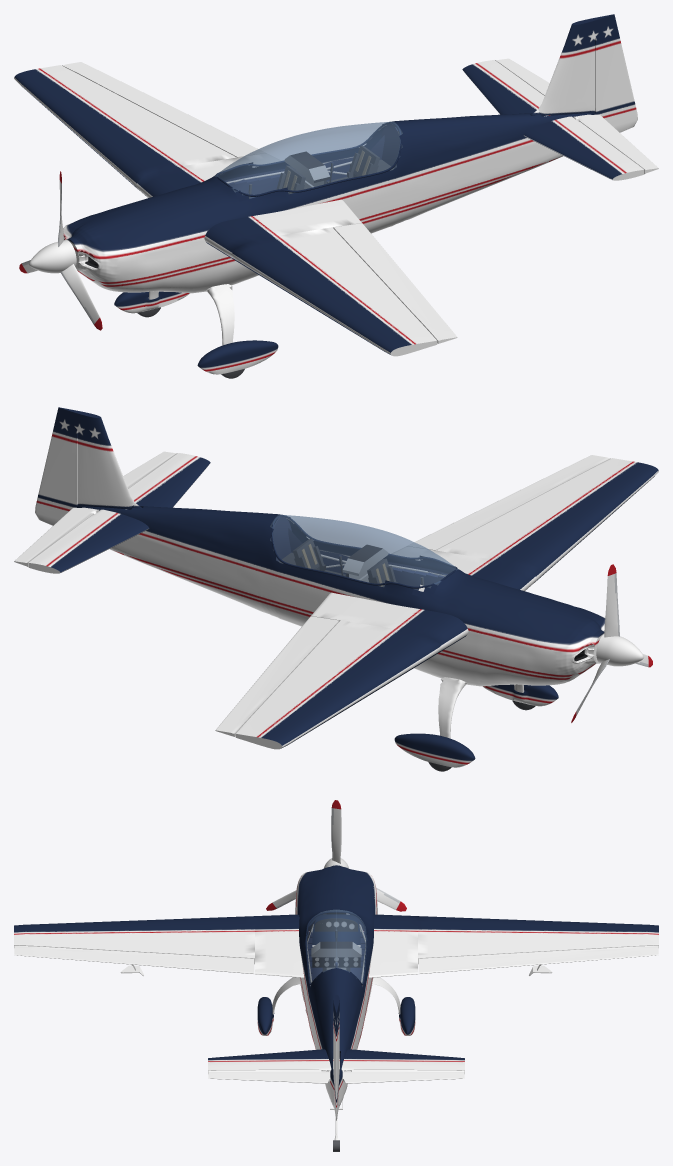
File: extra-300-like-own-unmarked.glb
The picture shows the model from 3 angles, top to bottom: view 1: azimuth 30°, elevation 25°; view 2: azimuth 150°, elevation 25°; view 3: azimuth 270°, elevation 25°; orthographic projection. The views are drawn at different scales.
Parts seen in each view (by area): view 1: Fuselage_Painted, Wing, Canopy_Glass, Stab, Cockpit, Rudder, Aileron_L, Fin, Aileron_R, Wheel_Pants, Elevator_L, Prop (+4 smaller); view 2: Fuselage_Painted, Wing, Canopy_Glass, Stab, Cockpit, Rudder, Aileron_R, Fin, Aileron_L, Wheel_Pants, Elevator_R, Prop (+4 smaller); view 3: Wing, Fuselage_Painted, Stab, Canopy_Glass, Aileron_L, Aileron_R, Cockpit, Elevator_L, Elevator_R, Prop, Wheel_Pants, Rudder (+2 smaller).
Boxes of the visible parts, bbox=[...] form: Fuselage_Painted: bbox=[63, 112, 596, 293]; Wing: bbox=[14, 65, 437, 356]; Canopy_Glass: bbox=[214, 121, 402, 198]; Stab: bbox=[462, 60, 644, 180]; Cockpit: bbox=[224, 123, 402, 198]; Rudder: bbox=[565, 14, 637, 132]; Aileron_L: bbox=[333, 223, 457, 343]; Fin: bbox=[531, 38, 594, 116]; Aileron_R: bbox=[62, 62, 264, 157]; Wheel_Pants: bbox=[114, 291, 278, 374]; Elevator_L: bbox=[573, 114, 658, 173]; Prop: bbox=[19, 171, 102, 330]; Fuselage_Painted: bbox=[76, 505, 605, 686]; Wing: bbox=[235, 458, 658, 749]; Canopy_Glass: bbox=[270, 514, 458, 590]; Stab: bbox=[28, 453, 210, 573]; Cockpit: bbox=[270, 516, 448, 590]; Rudder: bbox=[35, 407, 107, 525]; Aileron_R: bbox=[215, 616, 339, 736]; Fin: bbox=[78, 431, 141, 509]; Aileron_L: bbox=[408, 455, 610, 550]; Wheel_Pants: bbox=[394, 684, 558, 767]; Elevator_R: bbox=[14, 507, 99, 566]; Prop: bbox=[571, 564, 652, 722]; Wing: bbox=[14, 914, 658, 977]; Fuselage_Painted: bbox=[295, 865, 377, 1107]; Stab: bbox=[208, 1049, 464, 1073]; Canopy_Glass: bbox=[306, 909, 366, 986]; Aileron_L: bbox=[14, 945, 254, 975]; Aileron_R: bbox=[418, 945, 658, 975]; Cockpit: bbox=[307, 918, 365, 986]; Elevator_L: bbox=[208, 1069, 330, 1083]; Elevator_R: bbox=[342, 1069, 464, 1083]; Prop: bbox=[266, 800, 406, 911]; Wheel_Pants: bbox=[257, 997, 415, 1035]; Rudder: bbox=[330, 994, 342, 1120].
Size of the model in its own units: 7.48 by 2.68 by 7.99.
Materials: 27 (4 with a texture image).
